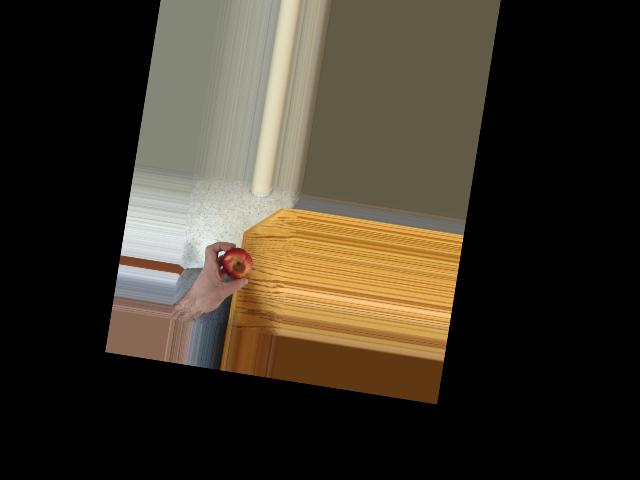apple: (219, 245, 255, 286)
